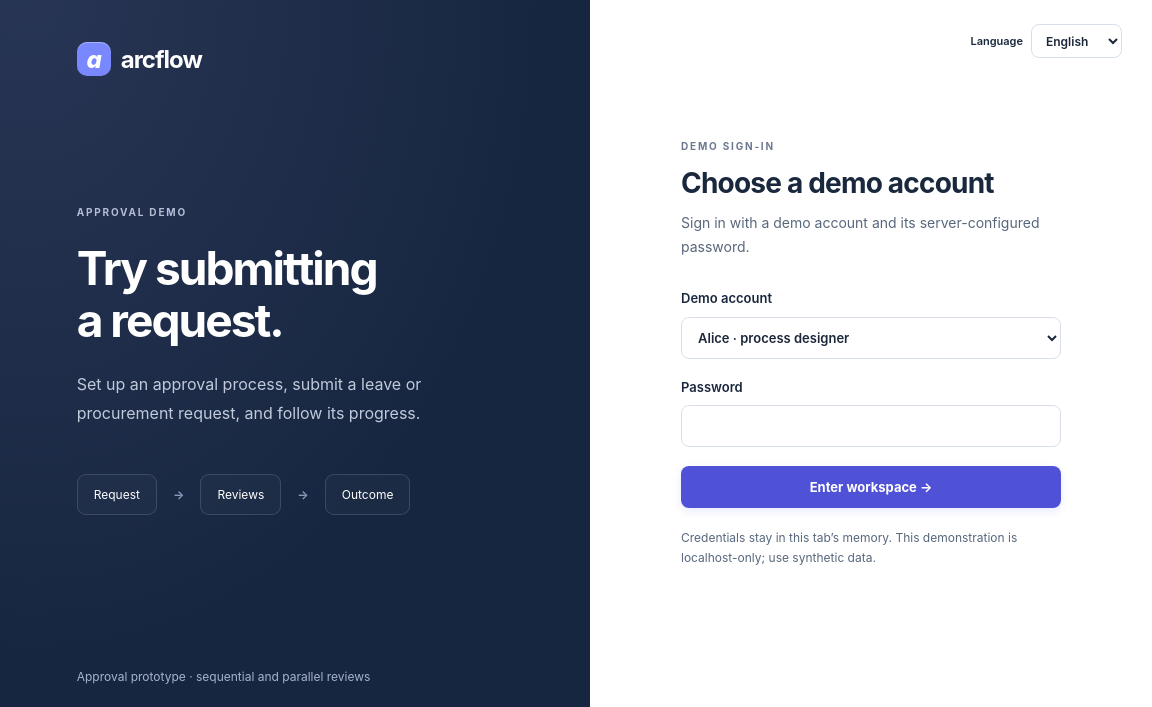
Test: paginated member worklists › keeps independent cursor progress when switching boxes and clearly labels handled pending work
Type "test-only" into the password field labelled "Password".
click(871, 426); type("test-only")  # box [681, 405, 1061, 447]
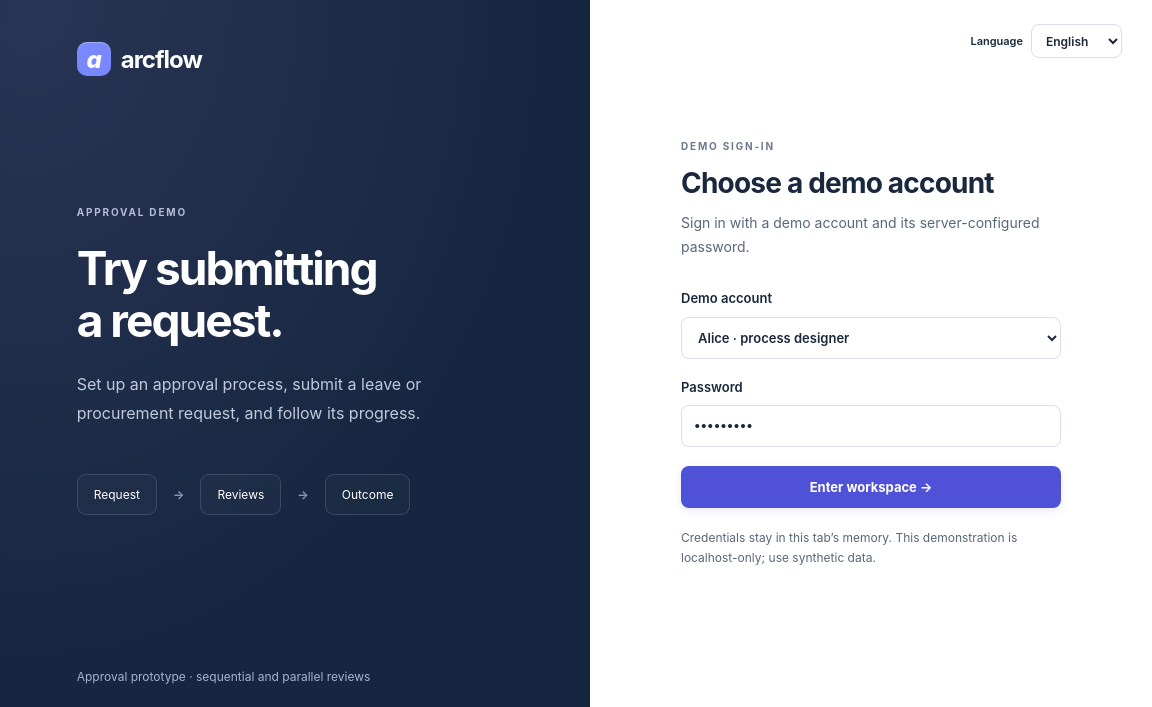
Submit the form with class "login-form", box [681, 139, 1061, 581]
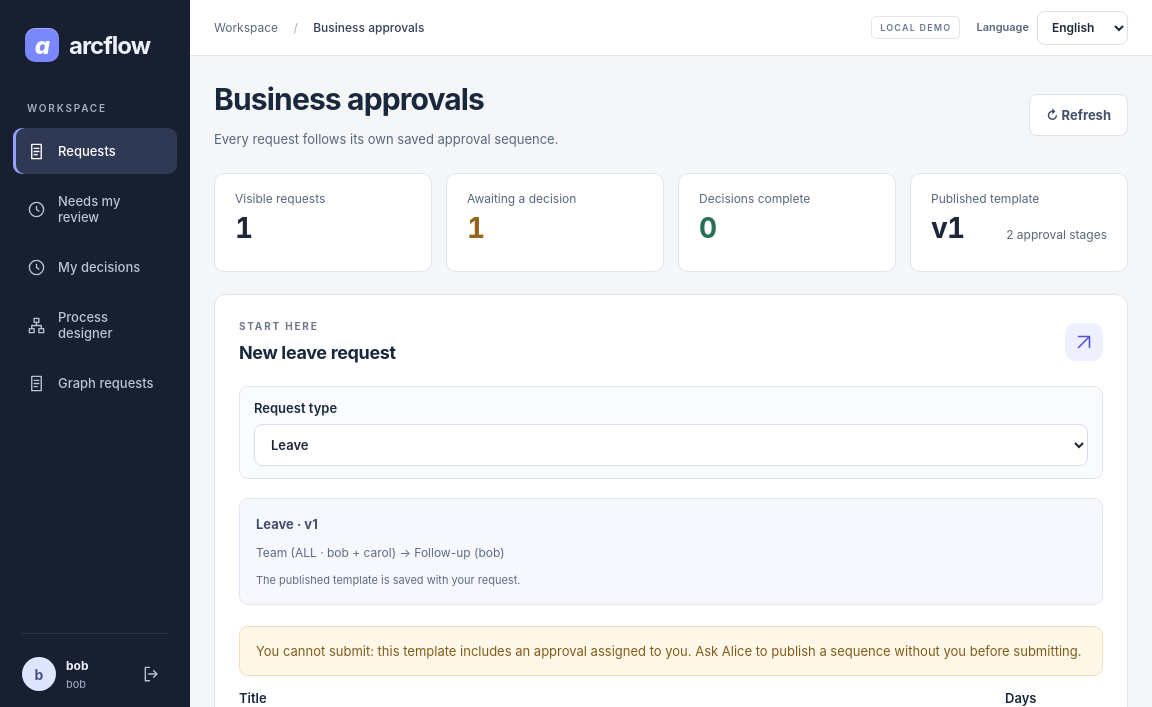
Click the button "Needs my review".
click(95, 209)  # box [13, 180, 177, 238]
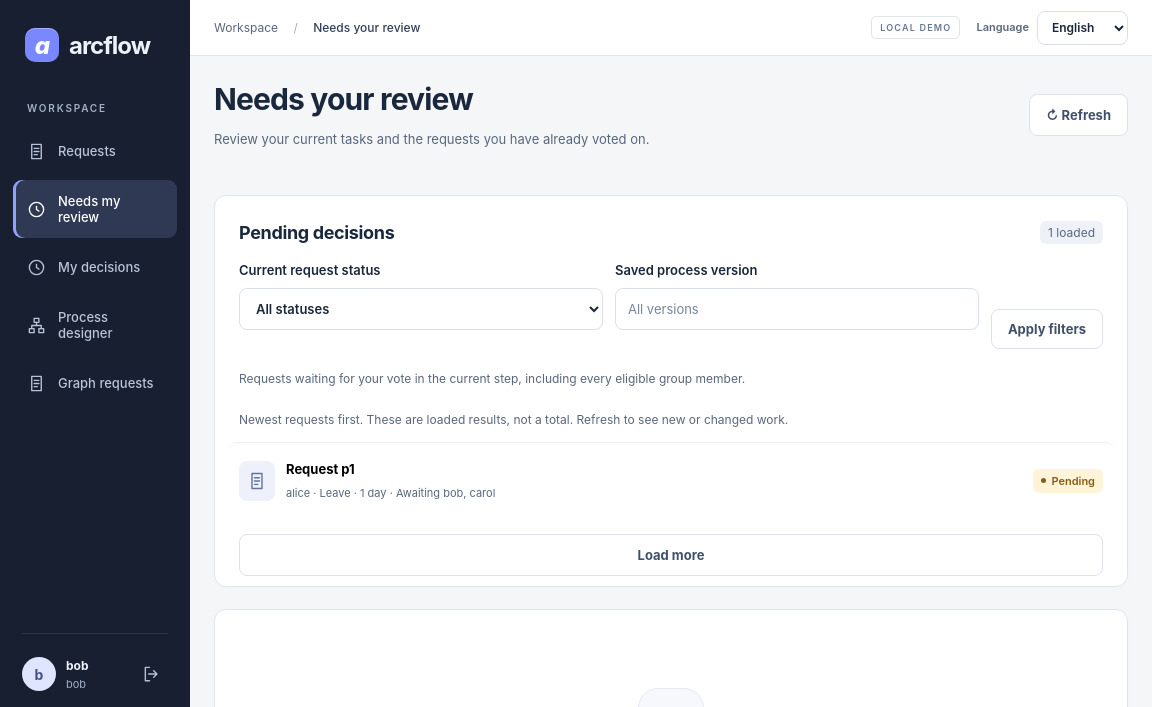
Click the button "Load more".
click(671, 555)  # box [239, 534, 1103, 576]
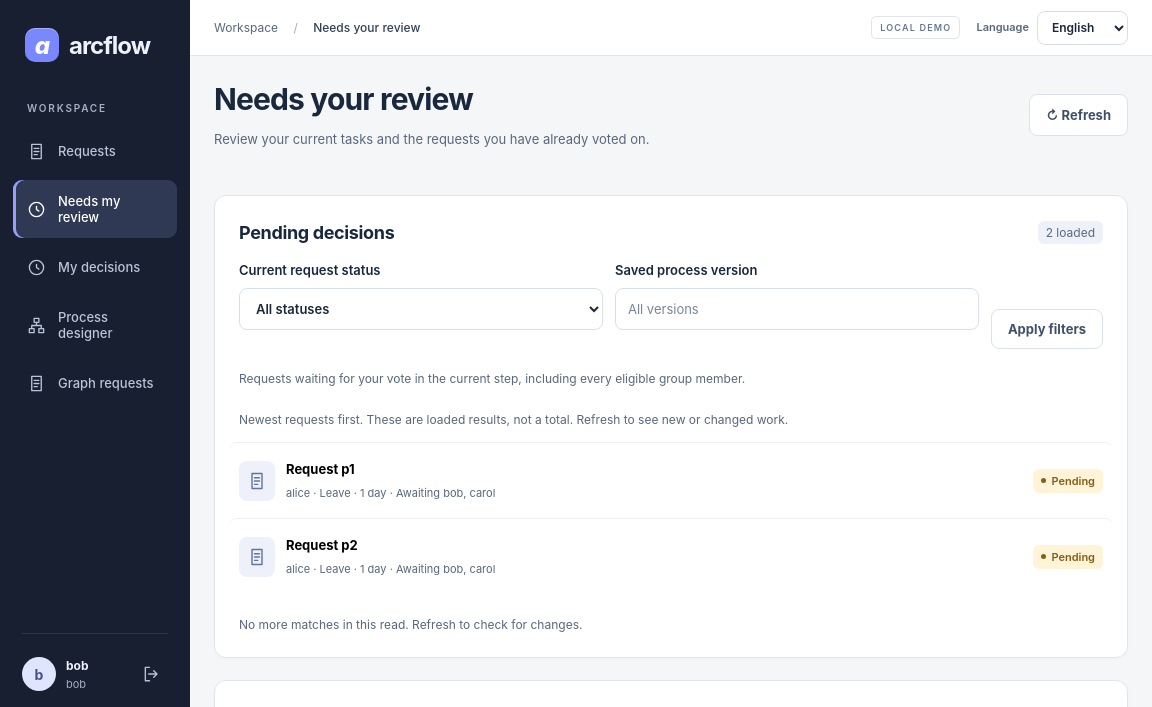
Expected: the number of buttons with class "request-item" is 2, [229, 442, 1113, 518]; [229, 518, 1113, 595]
Click the button "My decisions".
click(95, 267)  # box [13, 244, 177, 290]
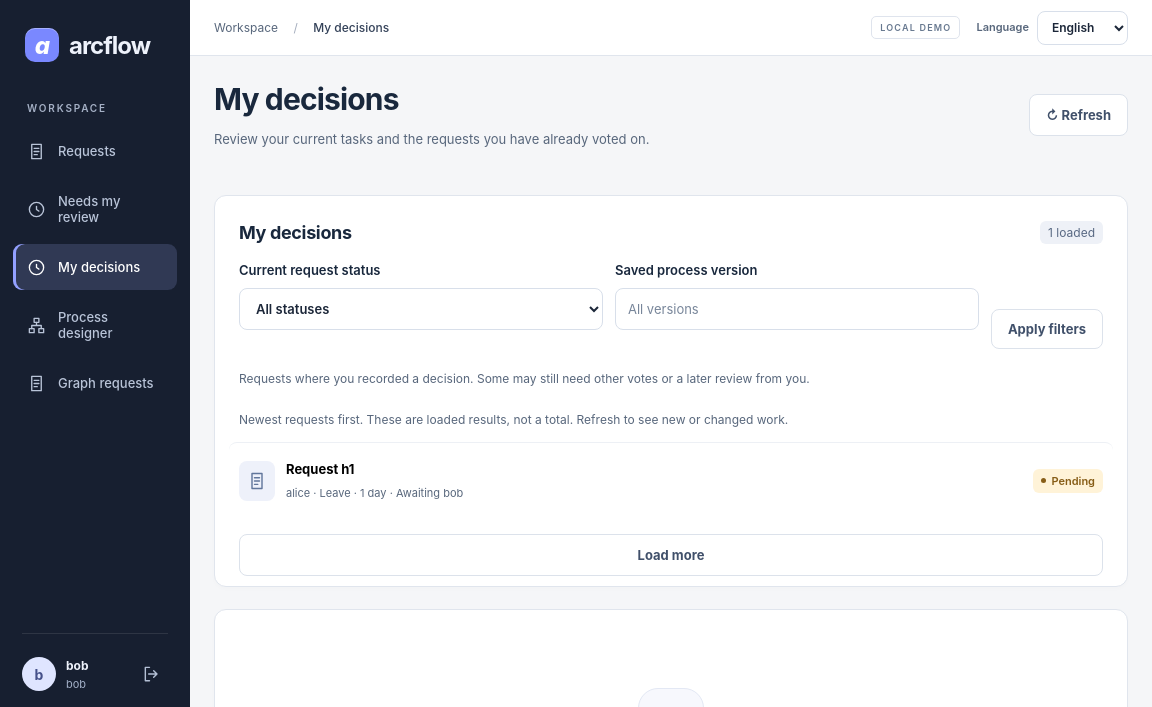
Expected: the text with class "status" reads "pending", [1051, 474, 1095, 488]
Expected: the text "Some may still need other votes" is shown, [239, 371, 810, 386]
Click the button "Needs my review".
click(95, 209)  # box [13, 180, 177, 238]
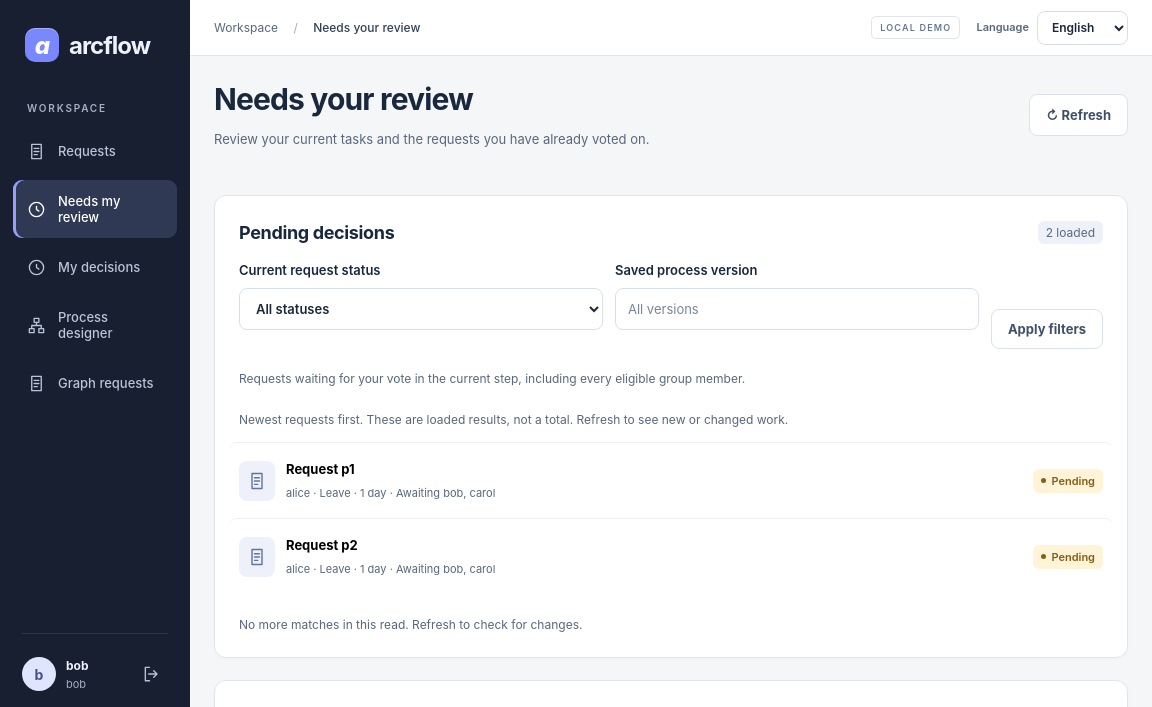
Expected: the number of buttons with class "request-item" is 2, [229, 442, 1113, 518]; [229, 518, 1113, 595]
